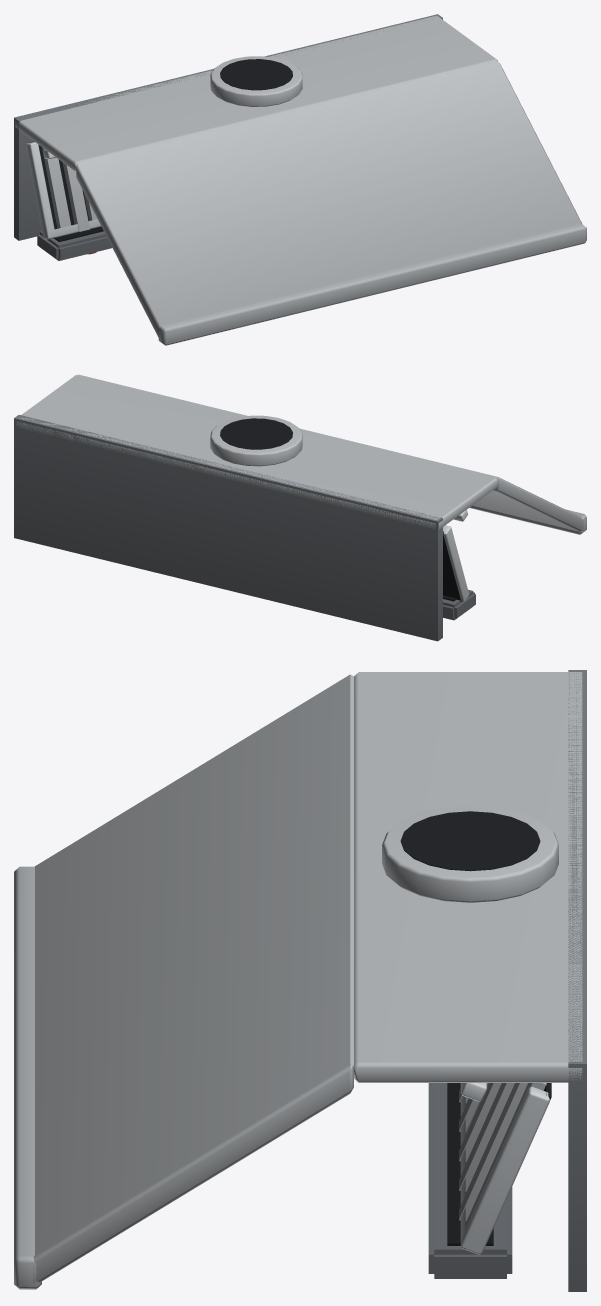
Rendered from SM_Hood_Canopy_20.glb.
3 renders of one model, top to bottom at view 1: azimuth 30°, elevation 25°; view 2: azimuth 150°, elevation 25°; view 3: azimuth 270°, elevation 25°, orthographic. The views are drawn at different scales.
Parts seen in each view (by area): view 1: SM_Hood_Canopy_20; view 2: SM_Hood_Canopy_20; view 3: SM_Hood_Canopy_20.
Part boxes in pixels (box(x1,y1,x2,y2)): SM_Hood_Canopy_20: box(14, 14, 586, 345); SM_Hood_Canopy_20: box(14, 374, 586, 641); SM_Hood_Canopy_20: box(14, 670, 586, 1291).
Bounding box in the file's own units: 2 × 0.602 × 1.23.
Materials: 1 (1 with a texture image).
